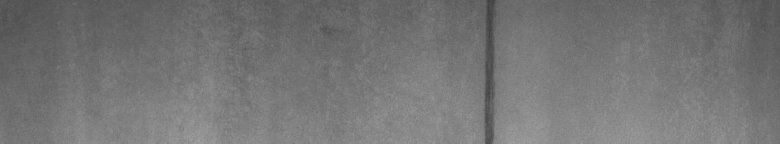hd: (476, 4, 503, 136)
